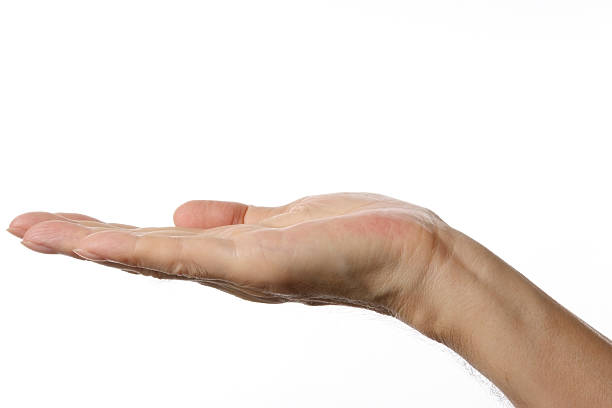hand: (5, 142, 466, 362)
